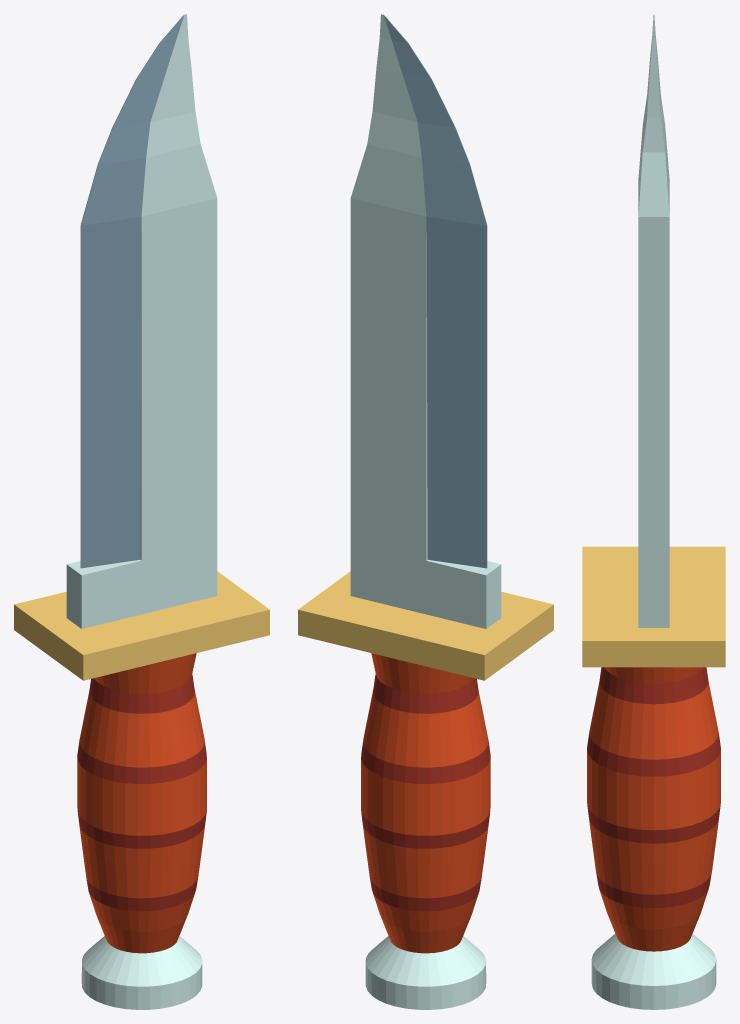
Rendered from Bcak.fbx.
3 renders of one model, left to right at view 1: azimuth 30°, elevation 25°; view 2: azimuth 150°, elevation 25°; view 3: azimuth 270°, elevation 25°, orthographic. The views are drawn at different scales.
Parts seen in each view (by area): view 1: Cube; view 2: Cube; view 3: Cube.
Part boxes in pixels (x1,y1,x2,y2): Cube: [14, 14, 269, 1009]; Cube: [298, 14, 553, 1009]; Cube: [582, 14, 725, 1009].
Bounding box in the file's own units: 223 × 1096 × 144.
